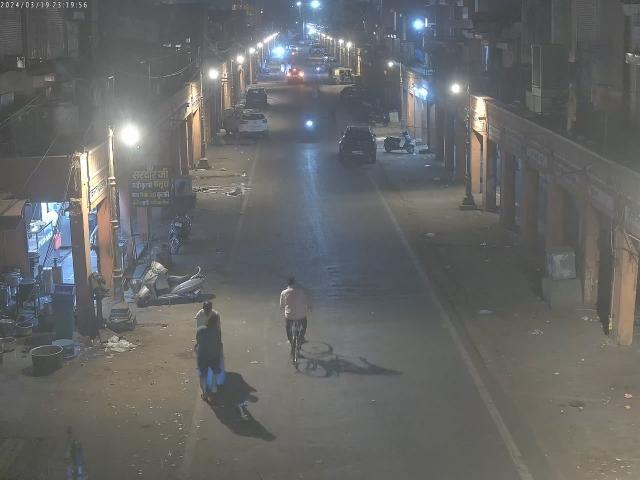motorbike: (278, 278, 308, 364)
person: (192, 300, 224, 405)
scooty: (139, 258, 202, 301)
